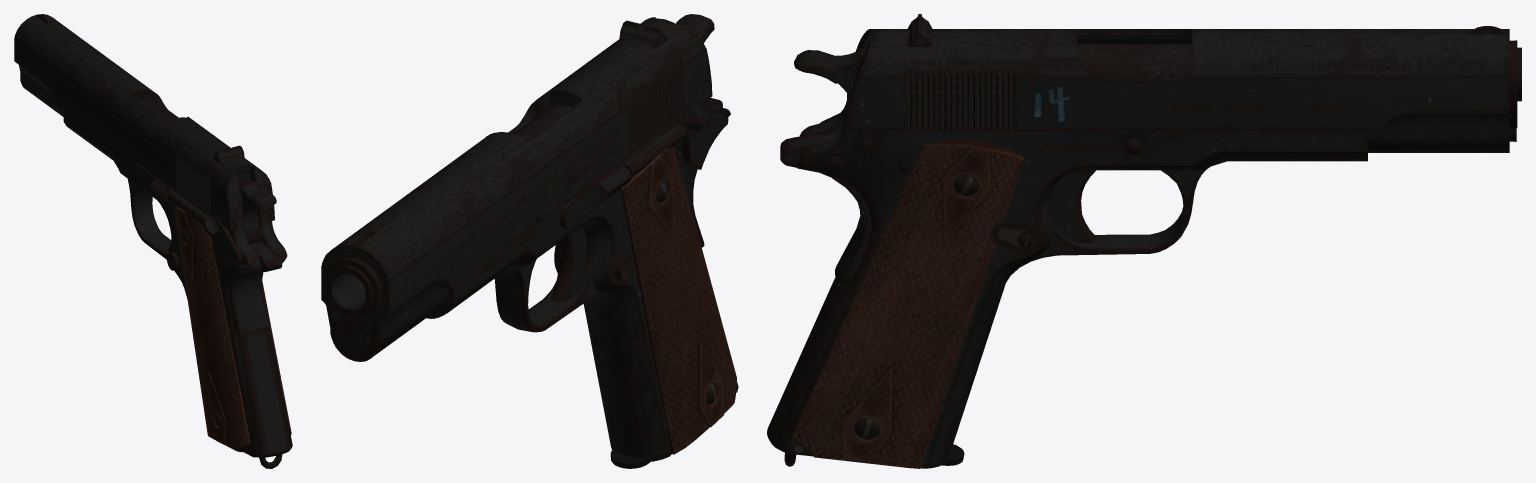
File: pistol_45.glb
3 renders of one model, left to right at view 1: azimuth 30°, elevation 25°; view 2: azimuth 150°, elevation 25°; view 3: azimuth 270°, elevation 25°, orthographic. The views are drawn at different scales.
Parts seen in each view (by area): view 1: item; view 2: item; view 3: item.
Part boxes in pixels (x1=…): item: x1=14, y1=14, x2=292, y2=468; item: x1=321, y1=14, x2=738, y2=468; item: x1=767, y1=14, x2=1521, y2=468.
Bounding box in the file's own units: 0.0323 × 0.1398 × 0.216.
Materials: 1 (1 with a texture image).
